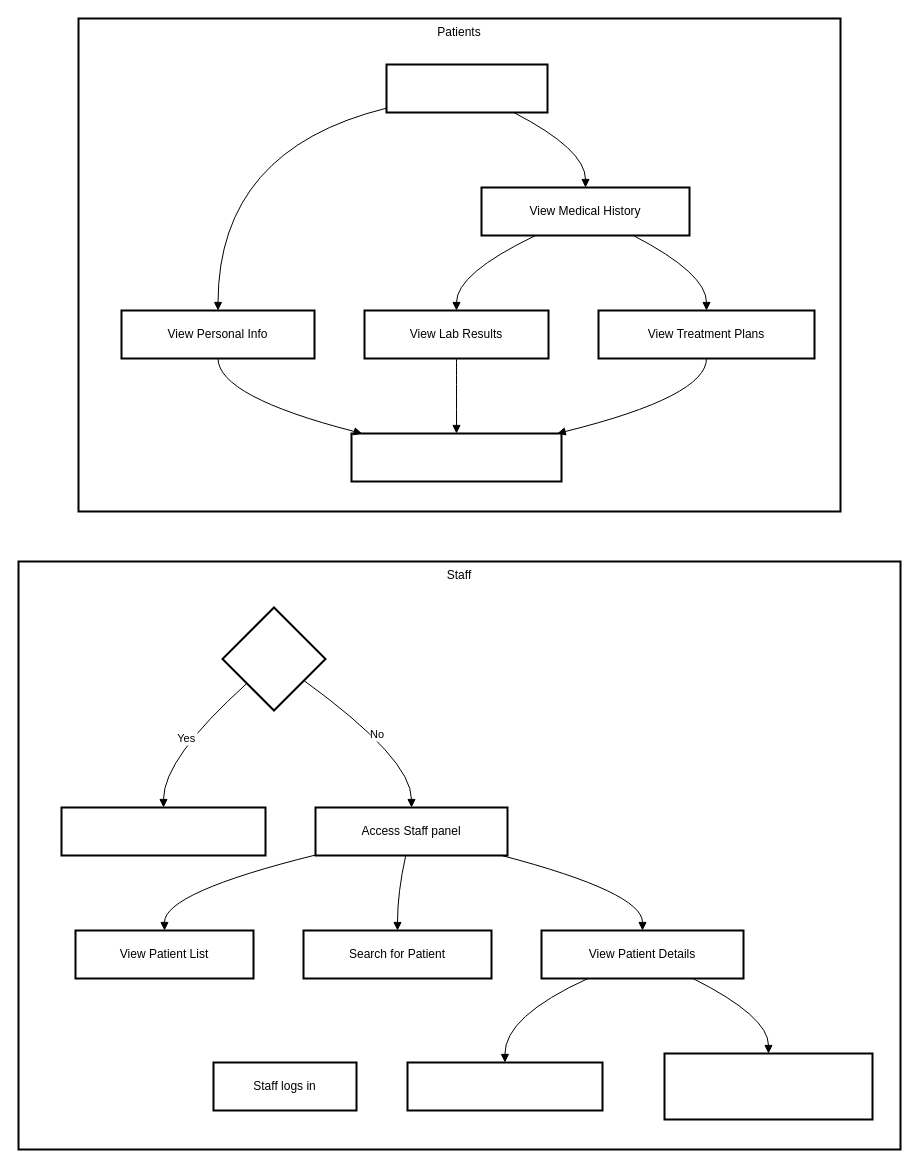
The diagram is 918 pixels wide and 1167 high, and some of its shapes have lost their labels. Here are the shapes that lost their labels. From the top down, the centre of each, then its label:
At pixel 466 88: "Patient logs in".
At pixel 456 457: "Update Personal Info".
At pixel 273 658: "Admin?".
At pixel 163 831: "Access Admin panel".
At pixel 504 1086: "Edit Patient Details".
At pixel 768 1086: "View Patient Medical Records".
